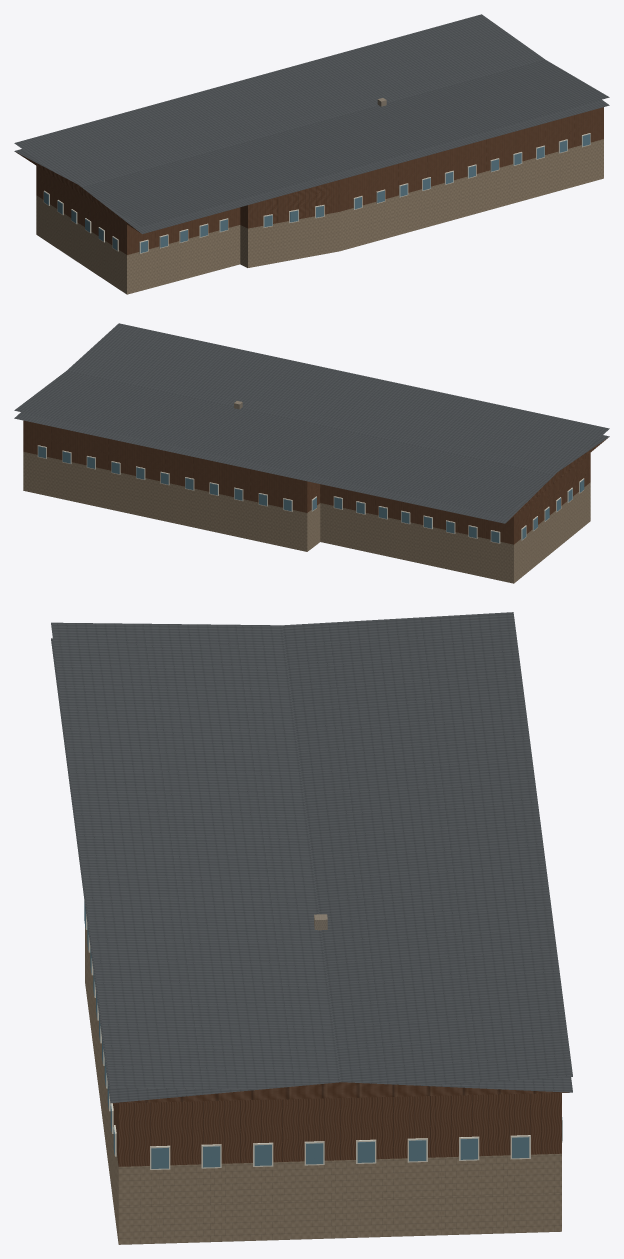
File: core_0002.gltf
The picture shows the model from 3 angles, top to bottom: view 1: azimuth 30°, elevation 25°; view 2: azimuth 150°, elevation 25°; view 3: azimuth 270°, elevation 25°; orthographic projection. The views are drawn at different scales.
Visible parts, largest first — view 1: core_0002; view 2: core_0002; view 3: core_0002.
Part boxes in pixels (x1=…): core_0002: x1=14, y1=14, x2=609, y2=294; core_0002: x1=14, y1=323, x2=609, y2=583; core_0002: x1=51, y1=612, x2=572, y2=1244.
Bounding box in the file's own units: 64.5 × 10.35 × 29.94.
6 materials, 6 textured.
